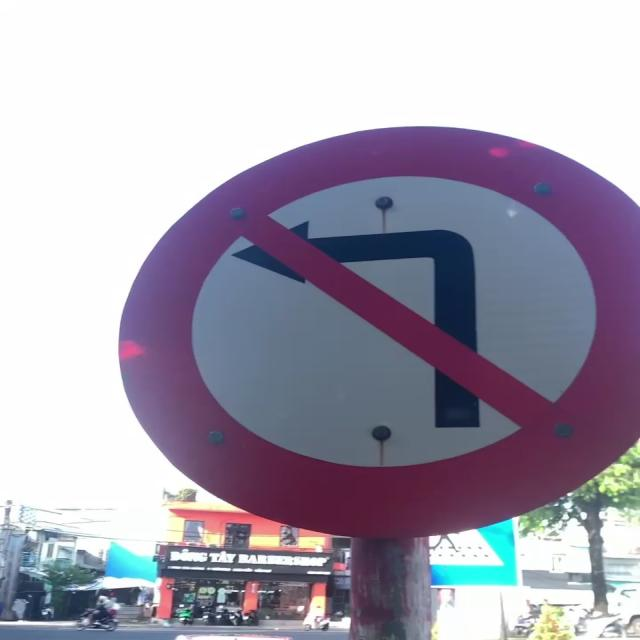Cam_Re_Trai: (122, 125, 639, 548)
